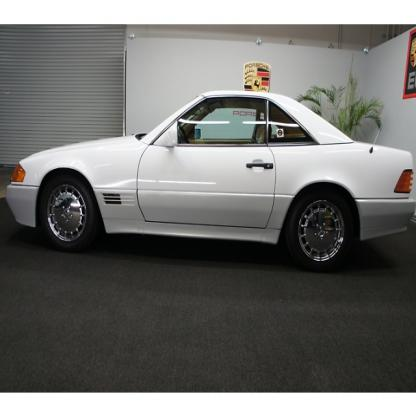Vehicle: (3, 86, 415, 281)
